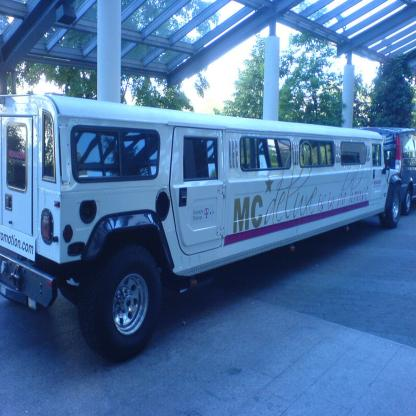Car: (353, 128, 416, 217)
